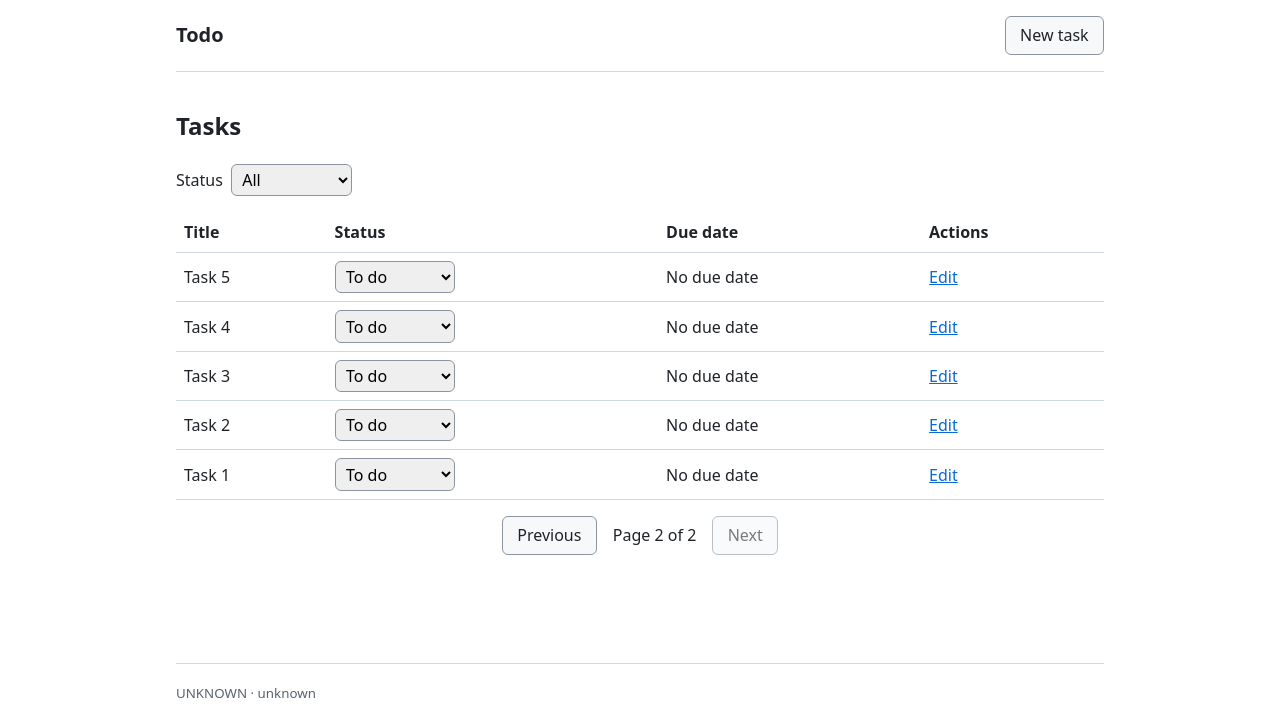
Scenario: SCRUM-6 task list status › SCRUM-6-AC-13: the filter is reflected in the URL and a filter change resets to page 1
expect the text "Page 2 of 2" is shown: met, box [613,523,696,547]
Select "In progress" in the dropdown labelled "Status" at (291, 180), box [231,164,352,196]
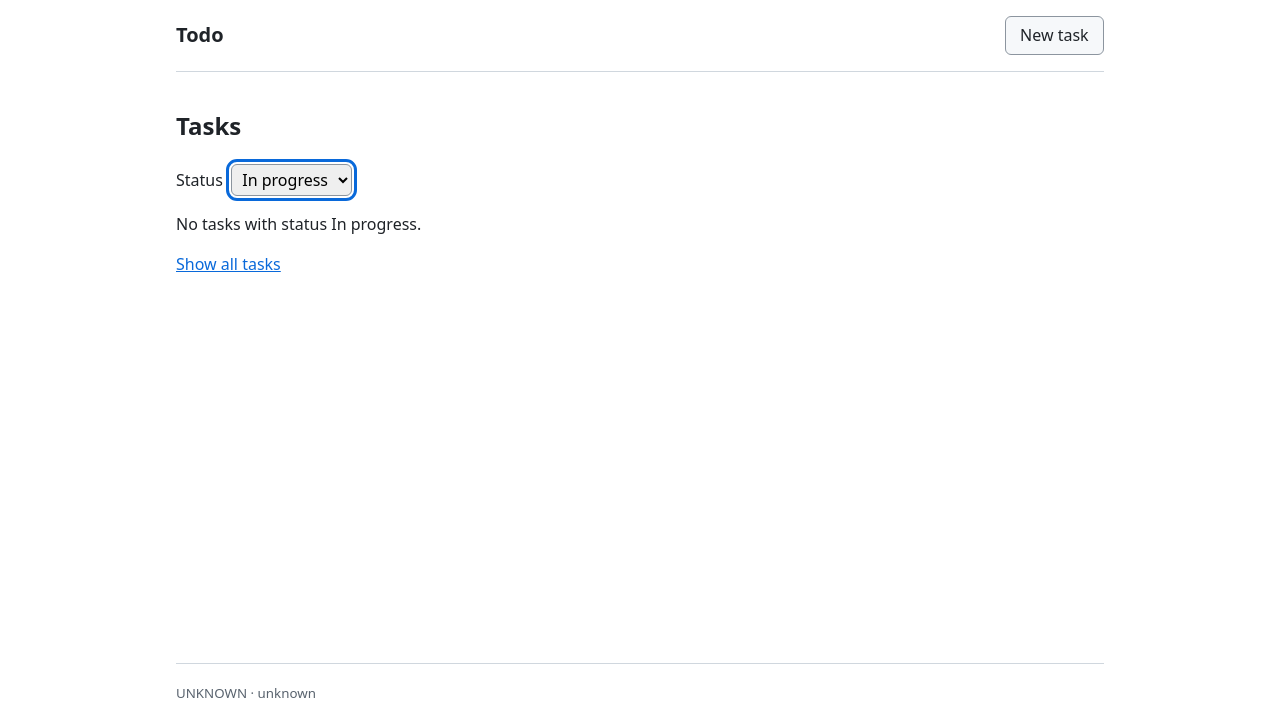
expect the text "No tasks with status In progress." is shown: met, box [176,213,421,235]
